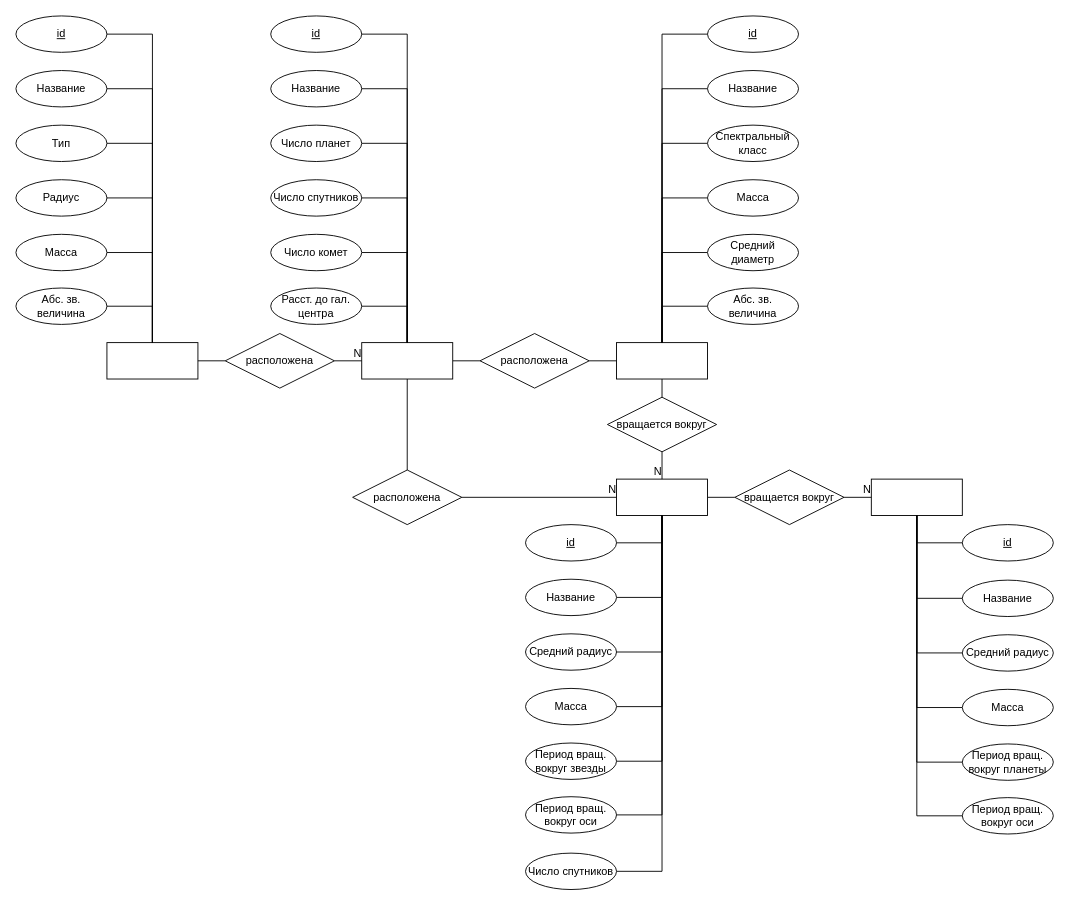
This 1069x905 diagram has some shape labels left out. The centre of each missing label's shape, as x and y in pixels:
Галактика: the point at 152,360
Звезда: the point at 662,360
Планета: the point at 662,497
Планетарная система: the point at 407,360
Спутник: the point at 916,497
